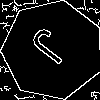J: (27, 25, 80, 73)
